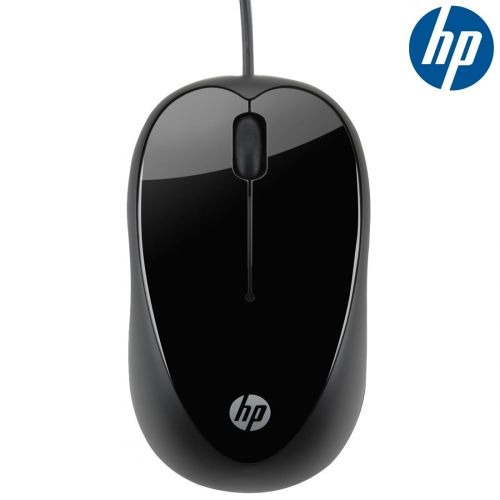mouse: (110, 75, 377, 497)
